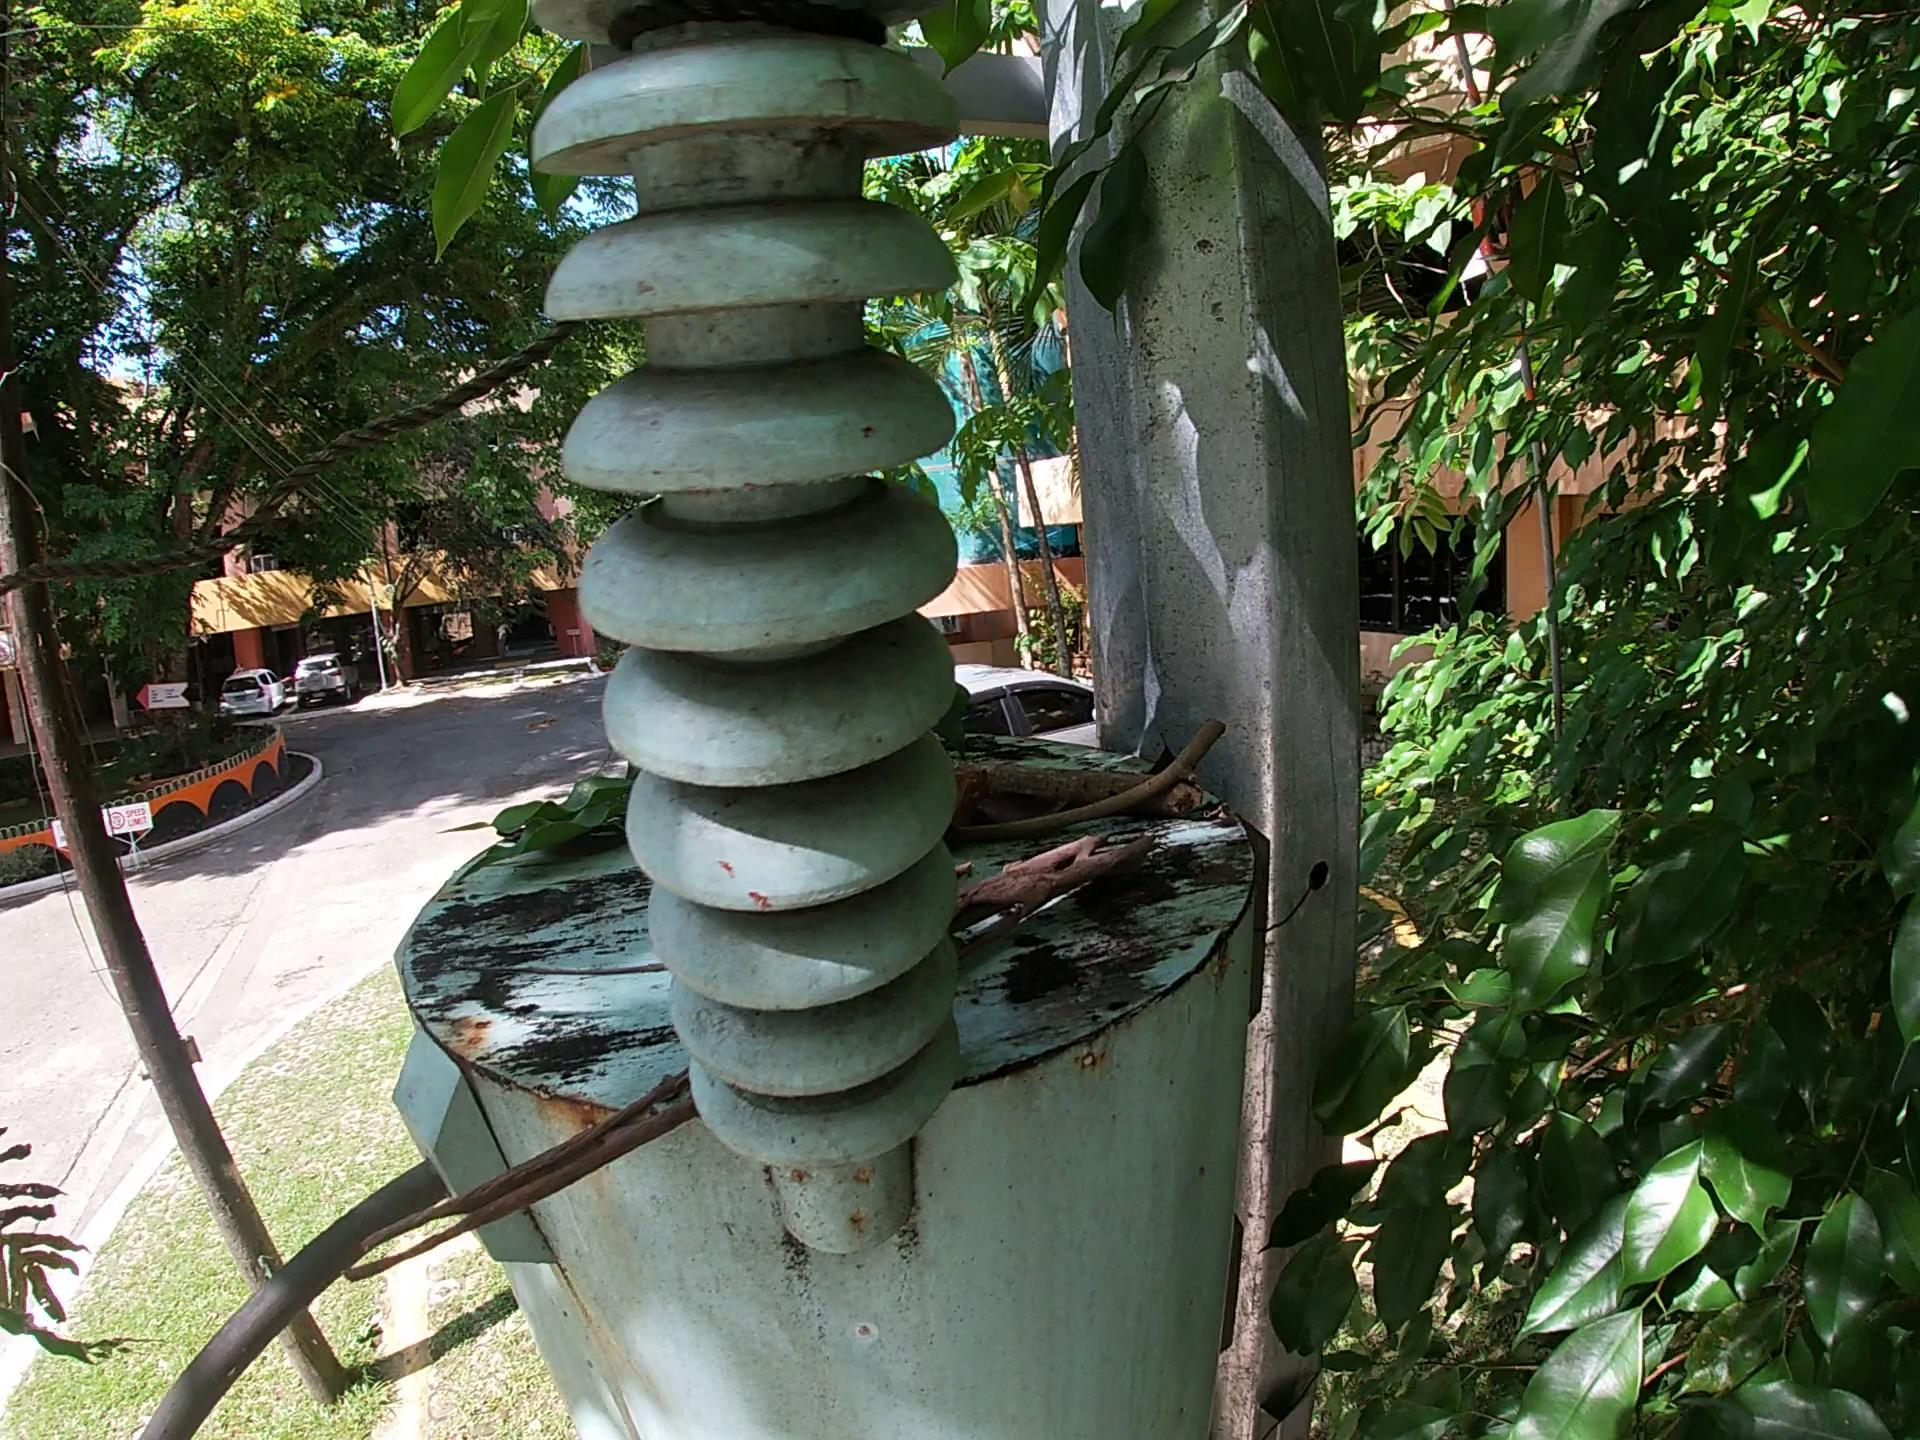leaf: (472, 764, 639, 867)
mahogany fruit: (945, 758, 1001, 806)
tree branch: (336, 1074, 714, 1287), (940, 722, 1243, 852), (922, 833, 1175, 950), (937, 758, 1206, 809), (454, 942, 667, 988)
